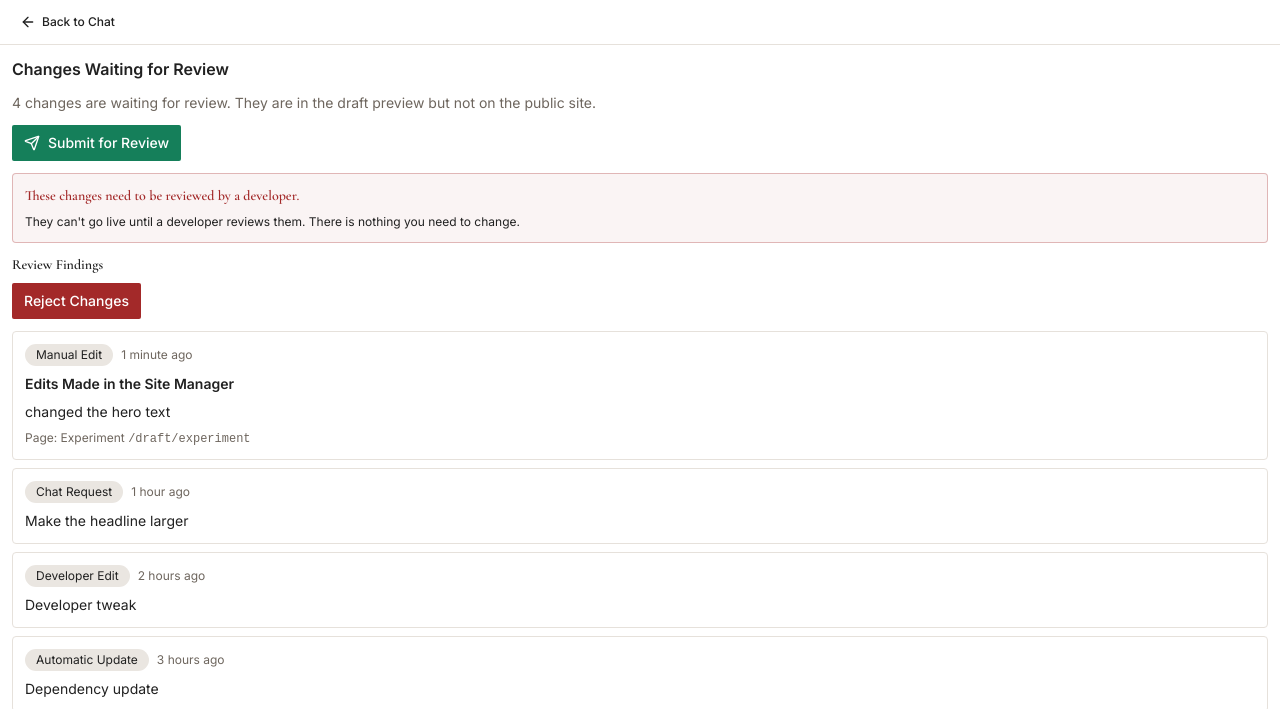
Changes waiting for review › reports undo counts and only explains kept Manual edits when positive (0)
This screenshot has width=1280, height=709.
Click the button "Reject Changes". click: (76, 301)
box: [12, 283, 141, 319]
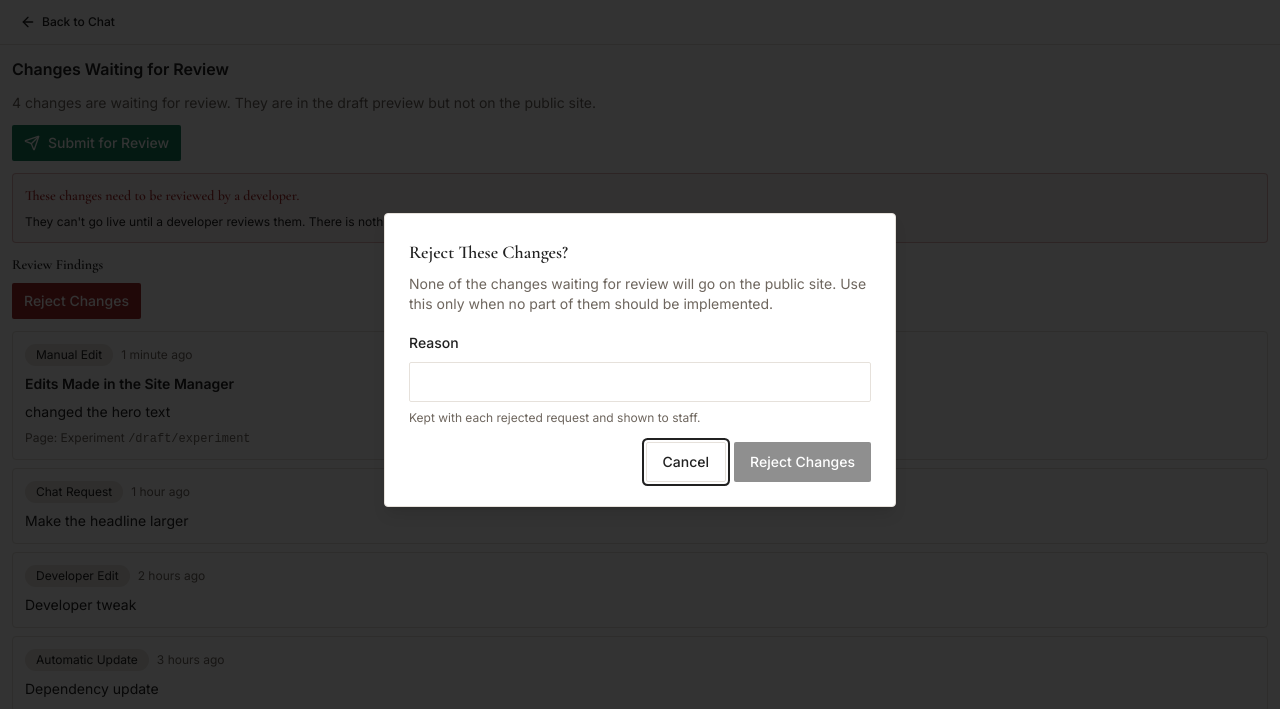
Type "Not approved" into the field labelled "Reason". click: (640, 382)
box: [409, 362, 871, 402]
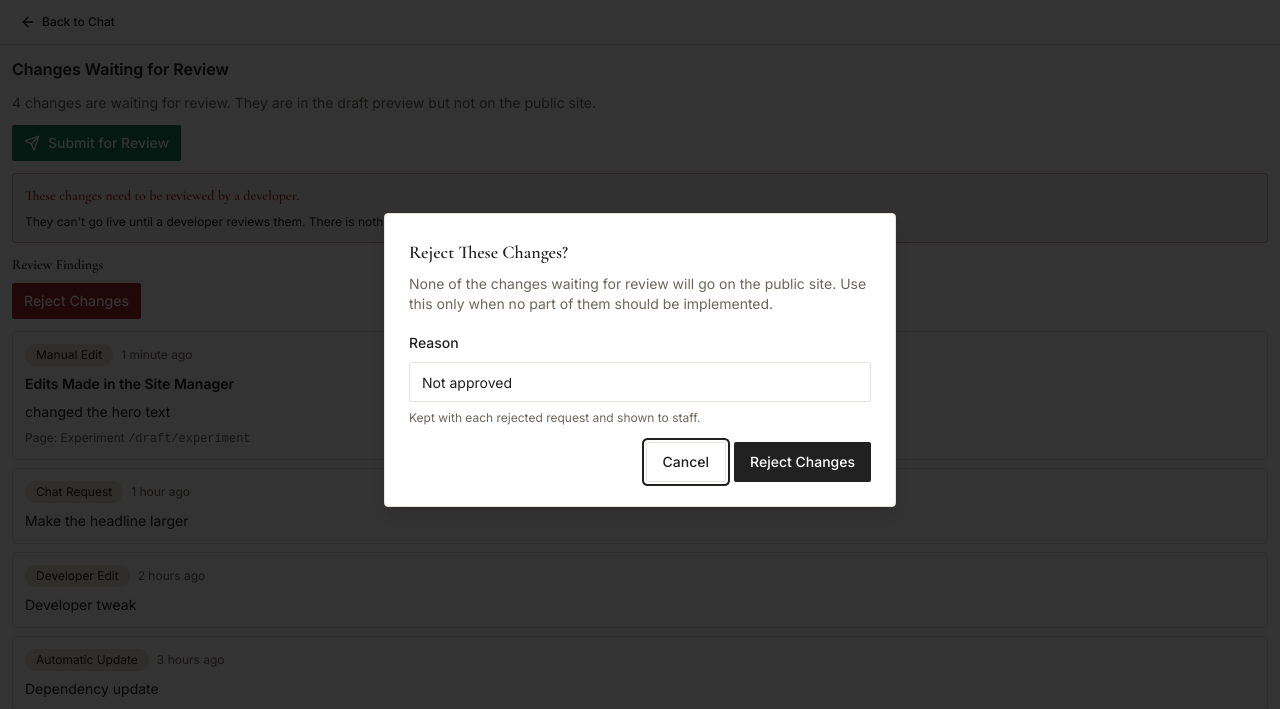
Click the button "Reject Changes". click: (803, 462)
box: [734, 442, 871, 482]
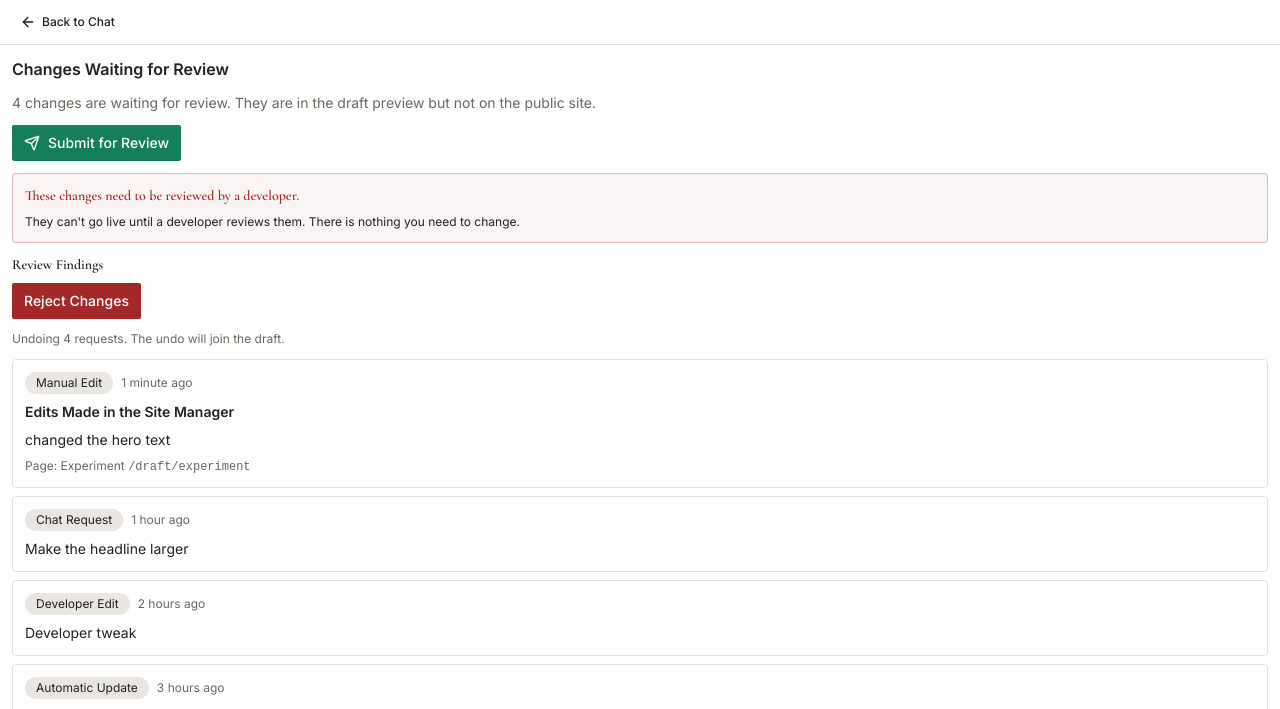
Check: the text "Undoing 4 requests. The undo will join the draft." is shown, box [12, 331, 285, 346]
